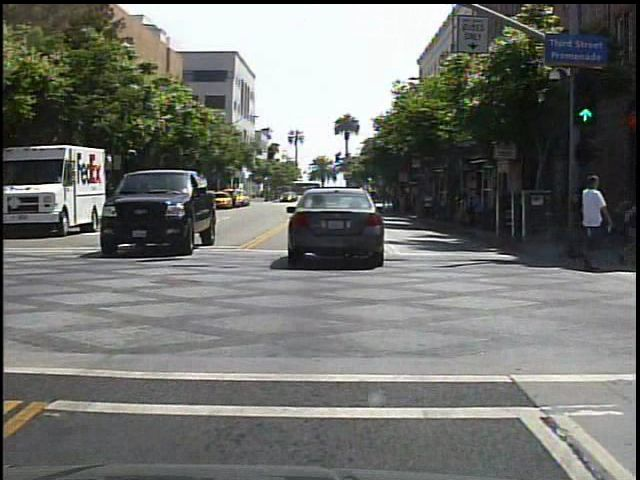person: (573, 164, 614, 271), (578, 172, 609, 266), (419, 189, 437, 223)
